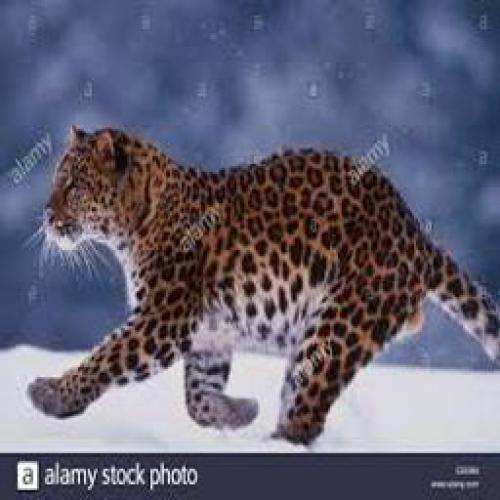amur_leopard-endangered: (26, 121, 500, 448)
